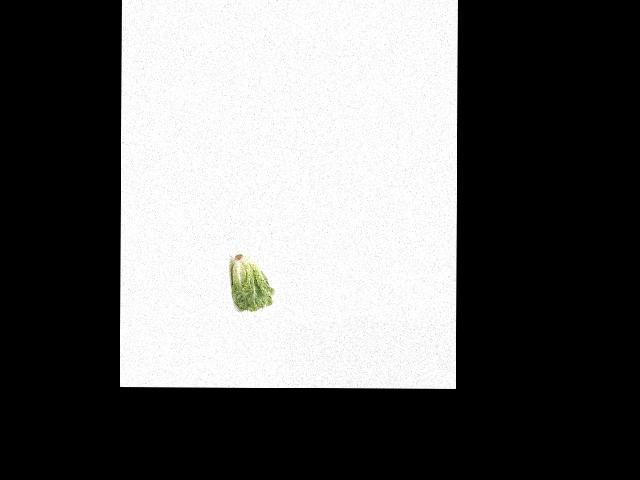lettuce: (229, 251, 274, 311)
